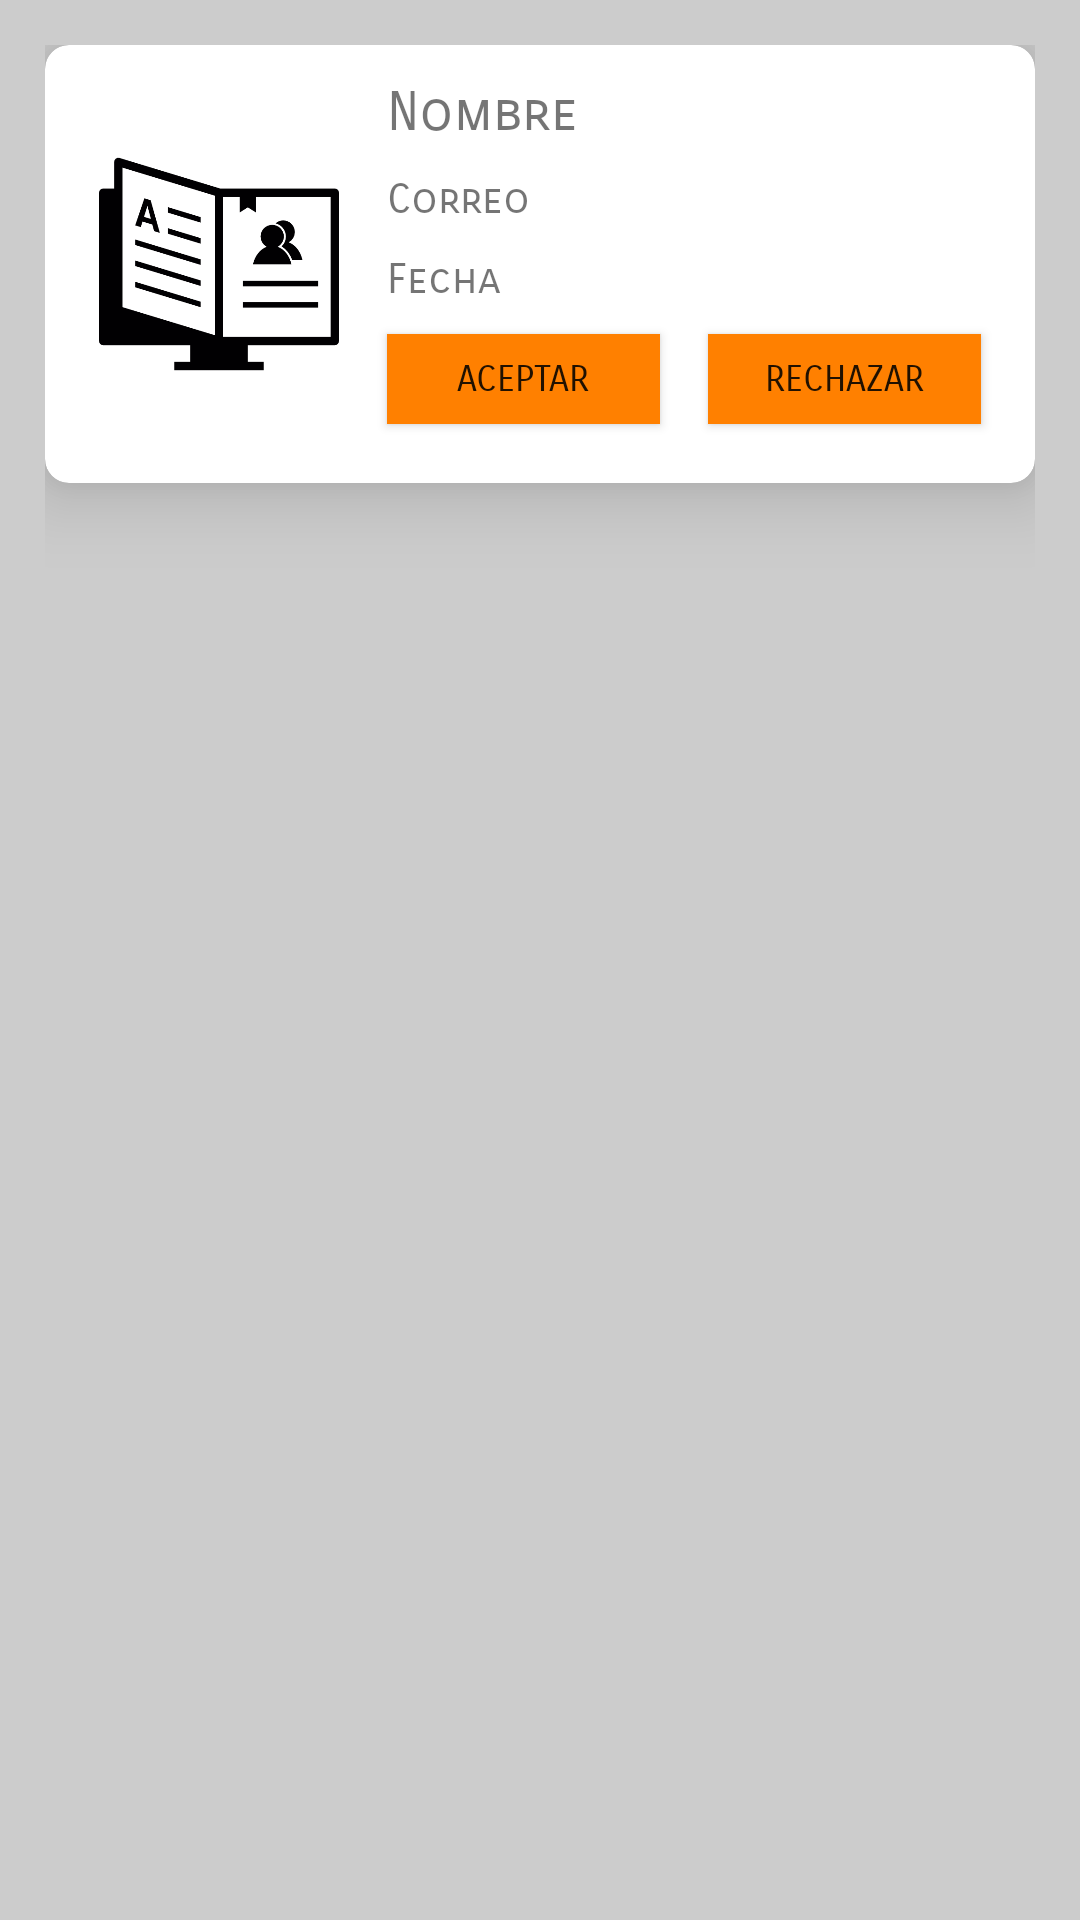

Icon click points for this 1080×1920 phone screenshot, format (x,y):
reservicon: (219,264)
